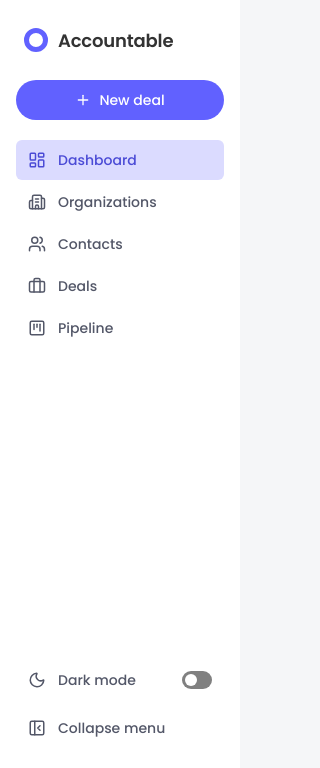
Test case: sidebar › saves the collapsed state and reports whether it is expanded
The width and height of the screenshot is (320, 768).
Click the button "Collapse menu" at (120, 728), box [16,708,224,748]
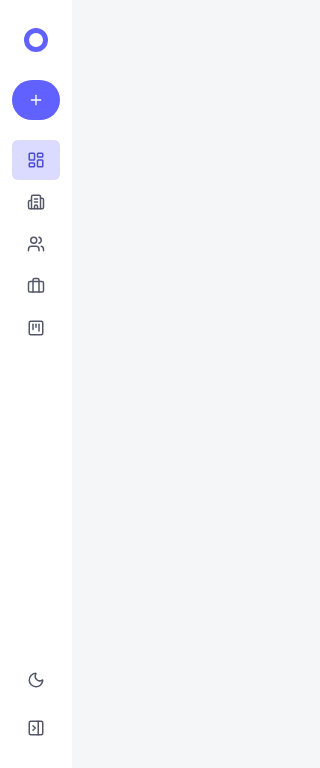
Now the button named "Expand menu" is collapsed, box [12,708,60,748]
